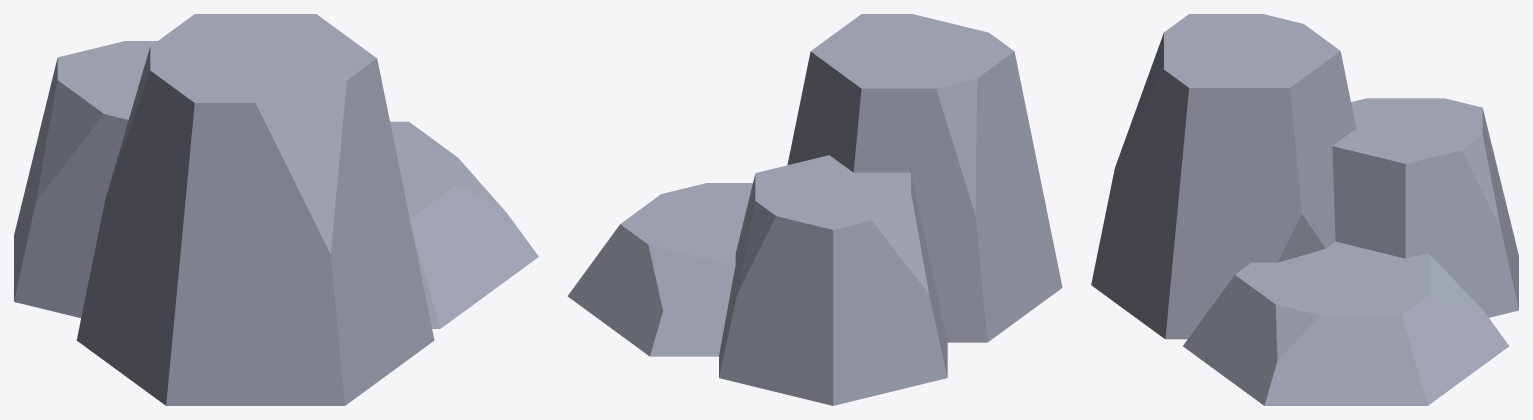
File: d_kenney_cailloux.glb
3 renders of one model, left to right at view 1: azimuth 30°, elevation 25°; view 2: azimuth 150°, elevation 25°; view 3: azimuth 270°, elevation 25°, orthographic. The views are drawn at different scales.
Parts seen in each view (by area): view 1: d_kenney_cailloux; view 2: d_kenney_cailloux; view 3: d_kenney_cailloux.
Part boxes in pixels (x1,y1,x2,y2): d_kenney_cailloux: (14,14,538,405); d_kenney_cailloux: (567,14,1062,405); d_kenney_cailloux: (1091,14,1518,405).
Size of the model in its own units: 0.6531 by 0.4 by 0.6623.
1 material, 1 textured.
